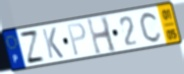2: (119, 15, 139, 47)
C: (139, 10, 164, 44)
H: (86, 15, 119, 56)
K: (41, 27, 66, 61)
P: (66, 21, 88, 58)
Z: (18, 29, 47, 65)
